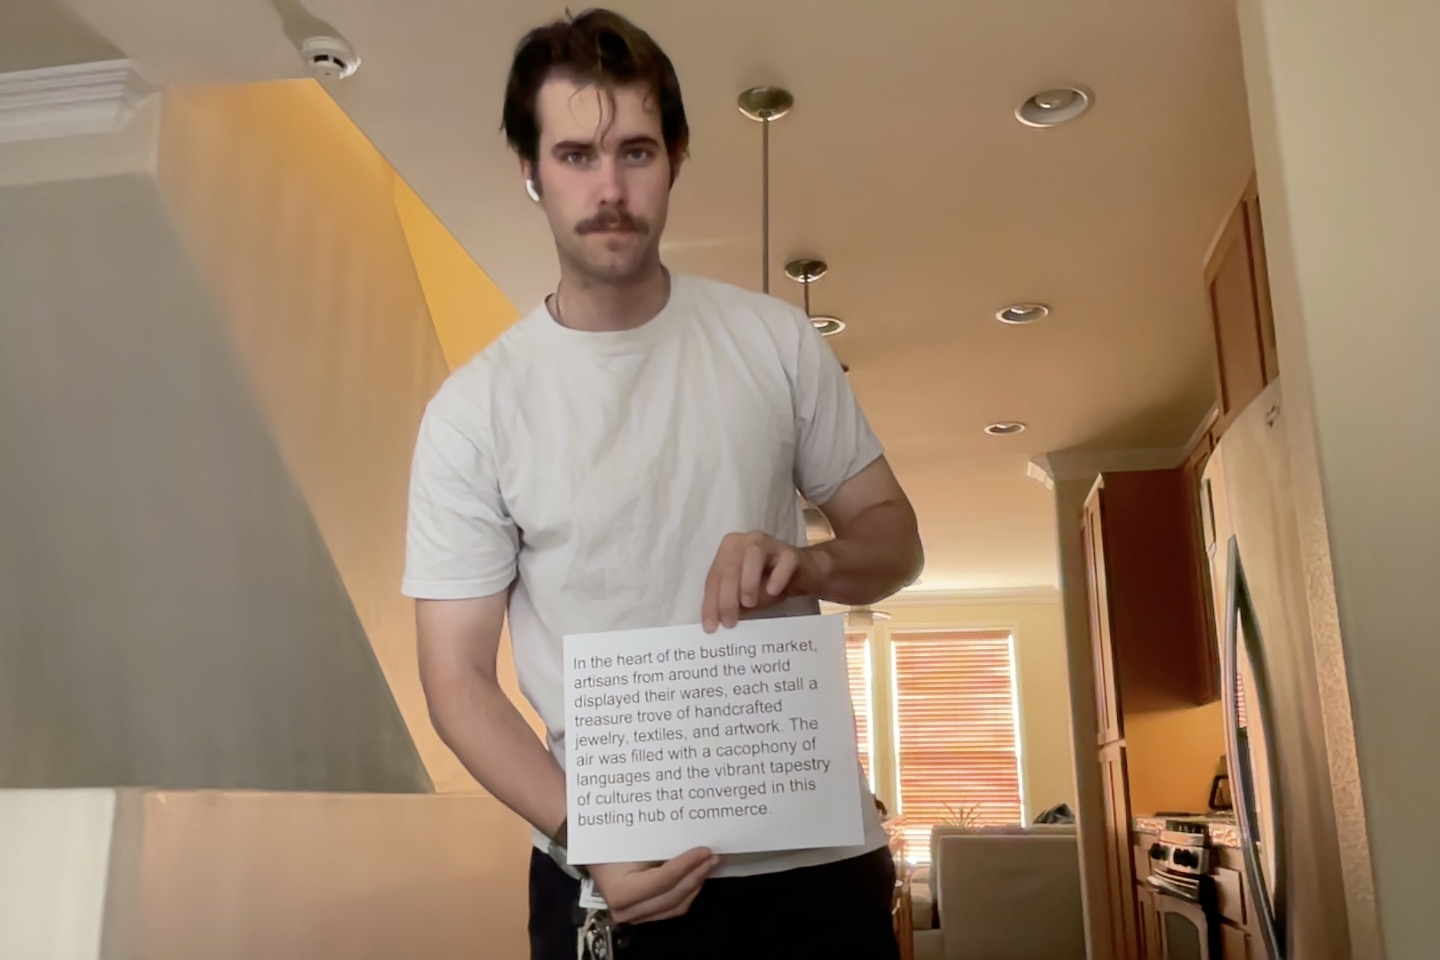paragraph: (569, 636, 841, 829)
